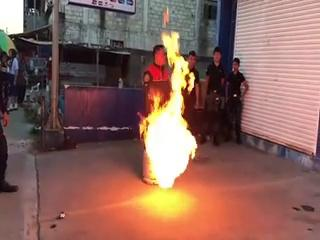Fire: (137, 28, 195, 187)
